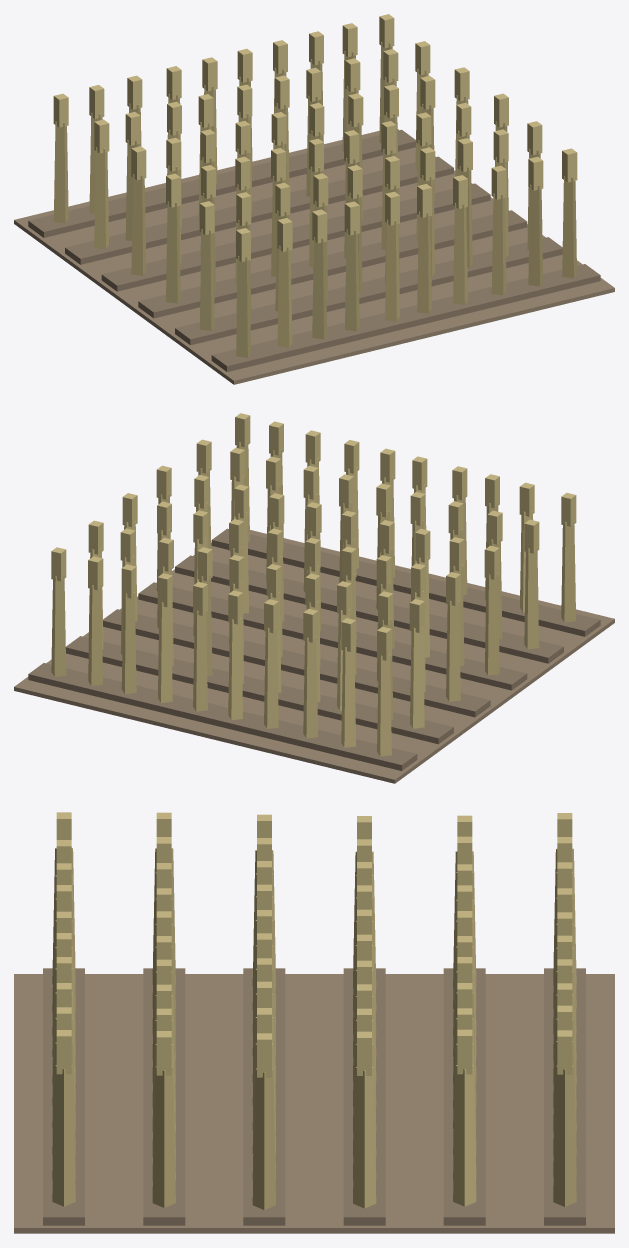
Rendered from crops_wheat.glb.
3 renders of one model, top to bottom at view 1: azimuth 30°, elevation 25°; view 2: azimuth 150°, elevation 25°; view 3: azimuth 270°, elevation 25°, orthographic. The views are drawn at different scales.
Visible parts, largest first — view 1: crops_wheat; view 2: crops_wheat; view 3: crops_wheat.
Boxes of the visible parts, left/top/right/bottom form: crops_wheat: left=14, top=14, right=614, bottom=384; crops_wheat: left=14, top=413, right=614, bottom=783; crops_wheat: left=14, top=812, right=614, bottom=1233.
Bounding box in the file's own units: 2 × 0.67 × 2.
